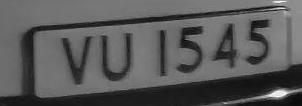1: (147, 21, 178, 82)
4: (209, 16, 246, 74)
5: (172, 19, 211, 78), (242, 14, 274, 70)
U: (94, 28, 139, 88)
V: (56, 28, 97, 92)
